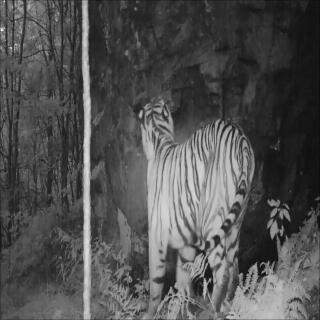Tiger: (135, 93, 260, 315)
